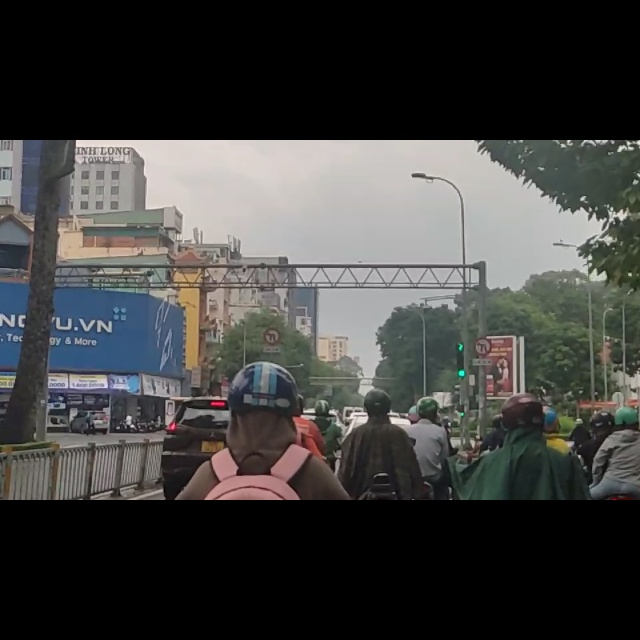bien_cam: (263, 334, 281, 366), (474, 351, 491, 384)
